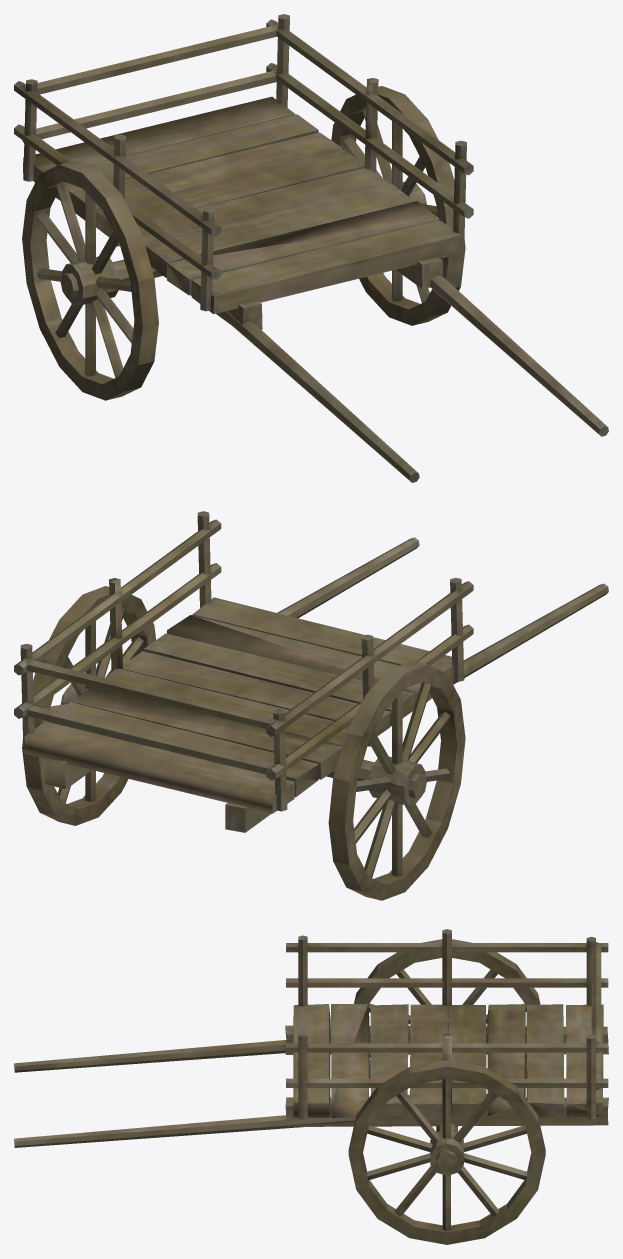
File: Village_Cart.glb
3 views of the same model, one above another, from view 1: azimuth 30°, elevation 25°; view 2: azimuth 150°, elevation 25°; view 3: azimuth 270°, elevation 25° (orthographic). The views are drawn at different scales.
Parts seen in each view (by area): view 1: Village_Cart; view 2: Village_Cart; view 3: Village_Cart.
Boxes of the visible parts, left/top/right/bottom form: Village_Cart: left=14, top=14, right=608, bottom=482; Village_Cart: left=14, top=511, right=608, bottom=900; Village_Cart: left=14, top=929, right=608, bottom=1244.
Bounding box in the file's own units: 1.96 × 1.3 × 3.51.
1 material, 1 textured.
